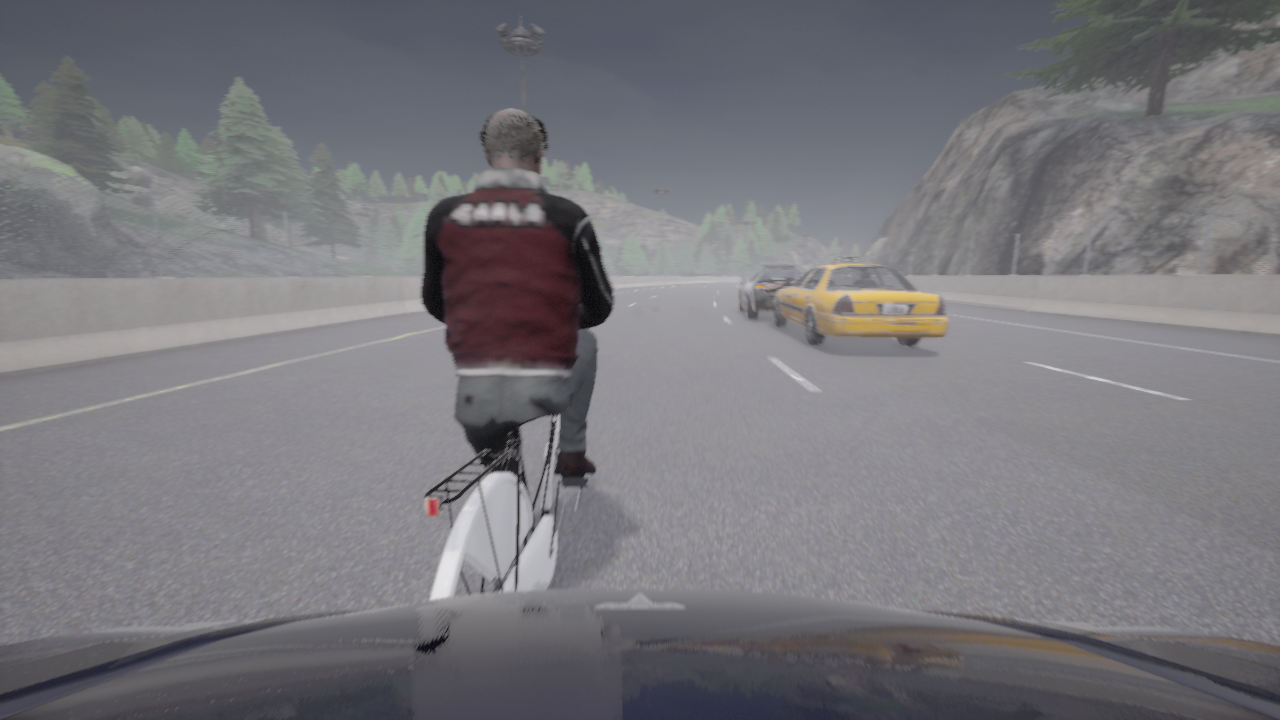cyclist: (0, 588, 1279, 719), (423, 414, 589, 599), (774, 256, 947, 346), (738, 264, 804, 319)
